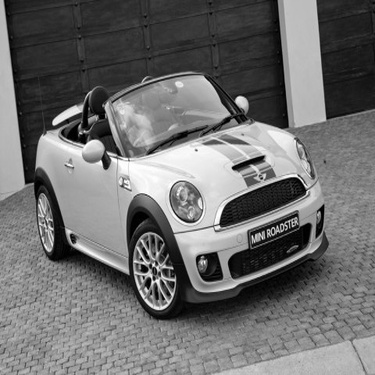car: (25, 64, 336, 318)
